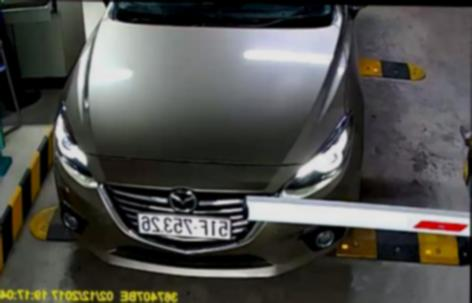License_Plate: (135, 210, 233, 240)
